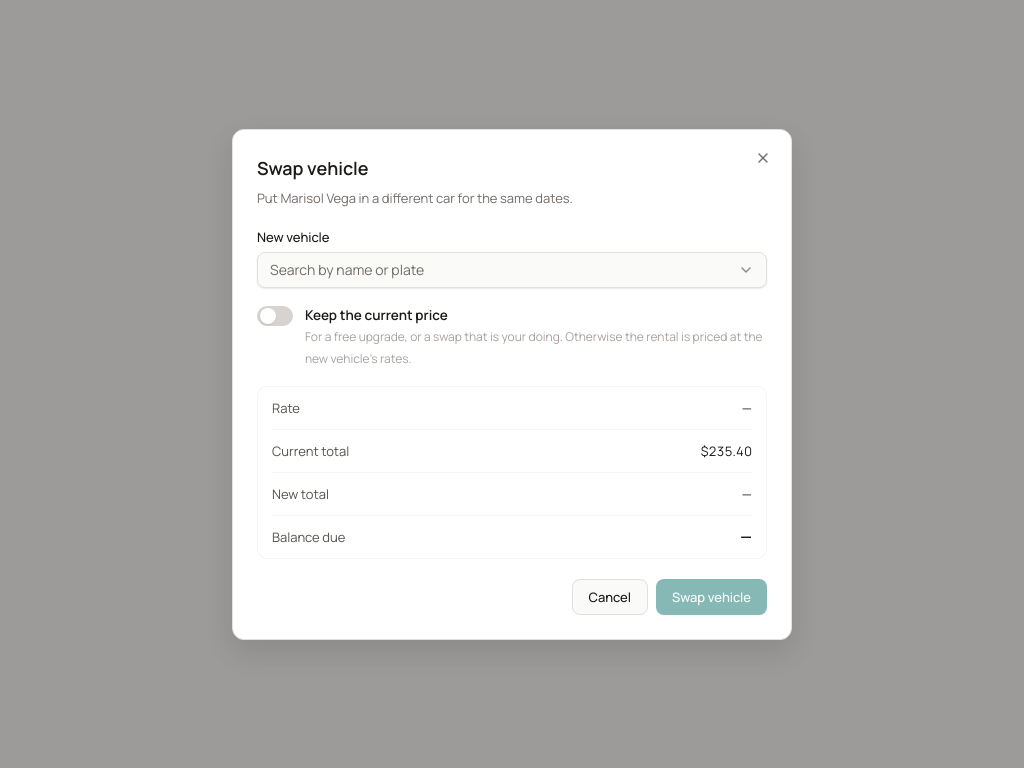
Test: BookingSwapDialog › offers every car but the booking’s own, with one taken on its dates out of reach
Click the dropdown labelled "New vehicle" at (500, 270), box [270,258,730,280]
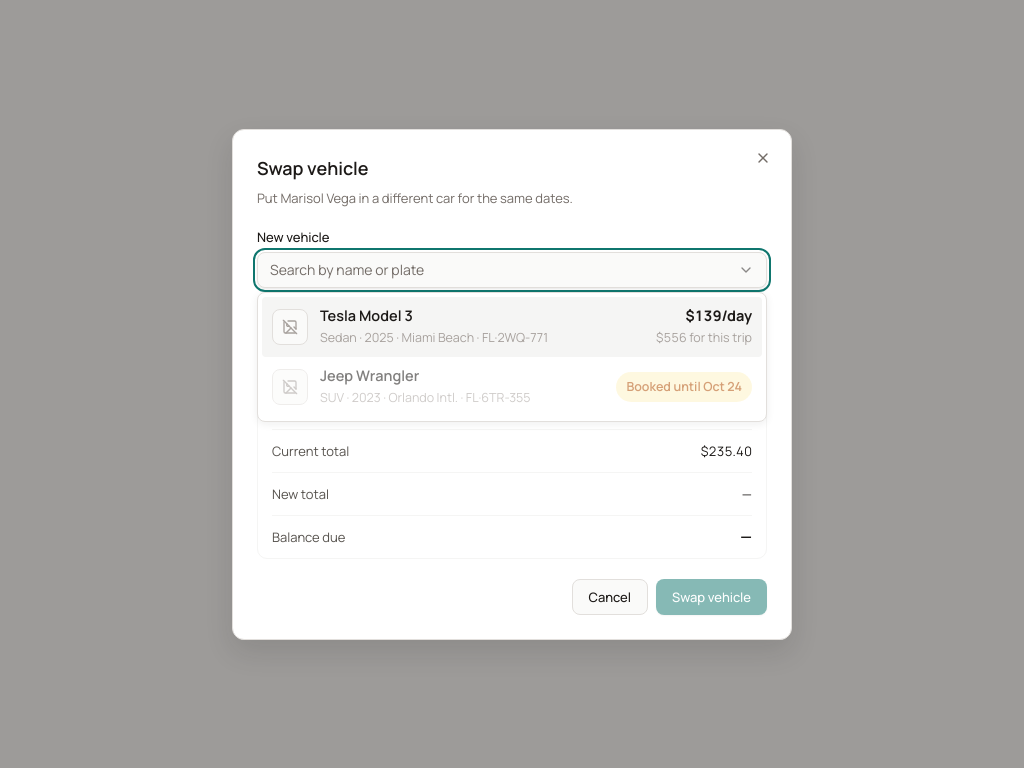
expect the option "FL·2WQ-771" is enabled: met, box [262,297,762,357]
expect the option "FL·6TR-355" is disabled: met, box [262,357,762,417]
expect the number of options is 2: met, box [262,297,762,357]; [262,357,762,417]
